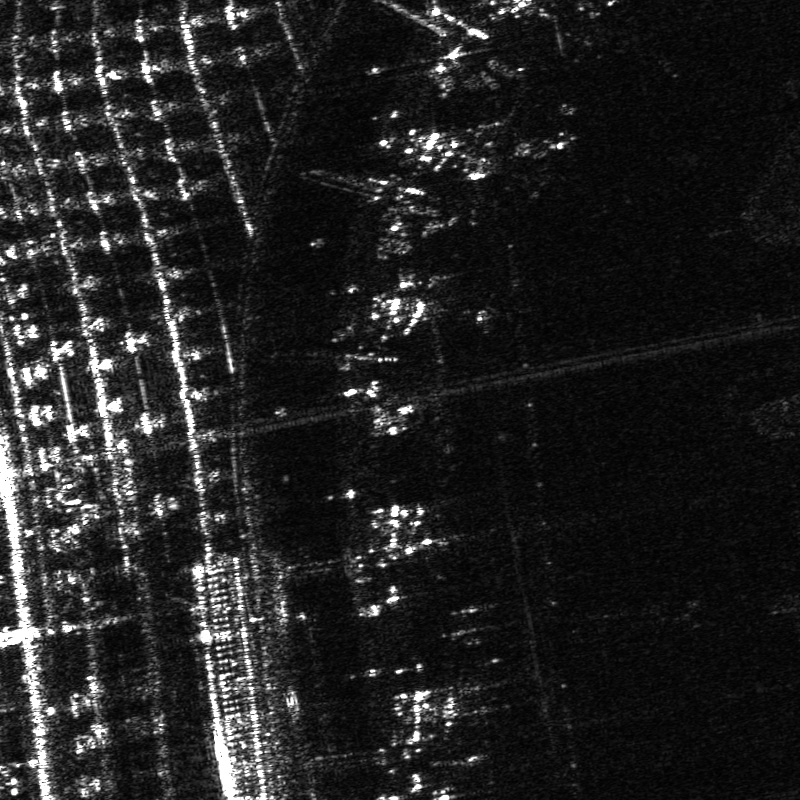Boeing787: (536, 1, 622, 69)
other: (418, 270, 494, 346)
